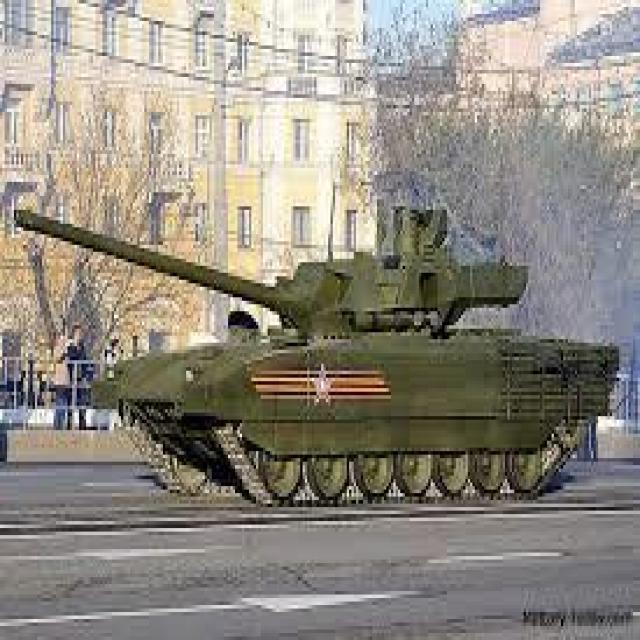MIL_MBT: (6, 17, 571, 598)
